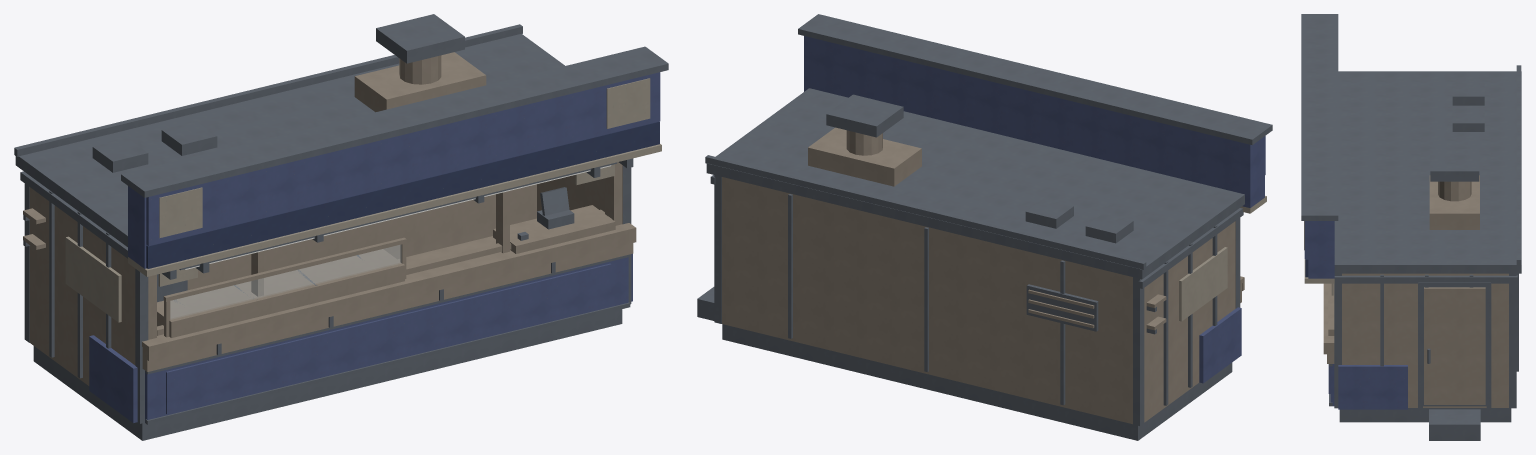
File: greek_gyros.glb
The picture shows the model from 3 angles, left to right: view 1: azimuth 30°, elevation 25°; view 2: azimuth 150°, elevation 25°; view 3: azimuth 270°, elevation 25°; orthographic projection. The views are drawn at different scales.
Parts seen in each view (by area): view 1: GG_MainSignSurface, GG_LowerFrontSignSurface, GG_RoofSlab, GG_CanopyTopCap, GG_MenuStripSurface, GG_SideWall_Left, GG_BaseSkirt, GG_HotWell_Body, GG_ServiceCounter_Top, GG_MetalCladding_Apron, GG_ServiceCounter_FrontLip, GG_RoofEdgeTrim_Rear (+33 smaller); view 2: GG_RearWall, GG_RoofSlab, GG_SignBoxBody, GG_CanopyTopCap, GG_BaseSkirt, GG_SideWall_Left, GG_RoofEdgeTrim_Rear, GG_ExtractionPlenum, GG_ExtractionCowl, GG_LowerSidePanel_Left, GG_SideSignSurface, GG_CornerPost_RearLeft (+10 smaller); view 3: GG_RoofSlab, GG_SideWall_Right, GG_CanopyTopCap, GG_SideDoor_Panel, GG_LowerSidePanel_Right, GG_ExtractionPlenum, GG_BaseSkirt, GG_SideStep, GG_ExtractionCowl, GG_SignBoxBody, GG_SideTrim_Right, GG_RoofEdgeTrim_Rear (+15 smaller).
Part boxes in pixels (x1,y1,x2,y2): GG_MainSignSurface: (146, 72, 660, 245); GG_LowerFrontSignSurface: (166, 263, 611, 414); GG_RoofSlab: (15, 33, 564, 246); GG_CanopyTopCap: (121, 46, 668, 197); GG_MenuStripSurface: (146, 121, 659, 268); GG_SideWall_Left: (29, 187, 135, 385); GG_BaseSkirt: (33, 309, 622, 440); GG_HotWell_Body: (157, 249, 404, 337); GG_ServiceCounter_Top: (142, 209, 636, 351); GG_MetalCladding_Apron: (142, 243, 633, 371); GG_ServiceCounter_FrontLip: (146, 232, 636, 360); GG_RoofEdgeTrim_Rear: (14, 24, 522, 156); GG_RearWall: (722, 177, 1144, 424); GG_RoofSlab: (706, 88, 1244, 279); GG_SignBoxBody: (804, 36, 1264, 207); GG_CanopyTopCap: (798, 14, 1272, 145); GG_BaseSkirt: (722, 324, 1232, 440); GG_SideWall_Left: (1132, 221, 1235, 422); GG_RoofEdgeTrim_Rear: (705, 155, 1146, 269); GG_ExtractionPlenum: (808, 127, 921, 186); GG_ExtractionCowl: (826, 94, 903, 137); GG_LowerSidePanel_Left: (1199, 307, 1241, 383); GG_SideSignSurface: (1179, 247, 1227, 321); GG_CornerPost_RearLeft: (1133, 277, 1144, 425); GG_RoofSlab: (1334, 71, 1521, 273); GG_SideWall_Right: (1342, 273, 1508, 407); GG_CanopyTopCap: (1301, 14, 1338, 220); GG_SideDoor_Panel: (1424, 287, 1485, 404); GG_LowerSidePanel_Right: (1338, 365, 1407, 409); GG_ExtractionPlenum: (1429, 175, 1479, 229); GG_BaseSkirt: (1339, 408, 1511, 422); GG_SideStep: (1429, 409, 1480, 440); GG_ExtractionCowl: (1430, 149, 1479, 181); GG_SignBoxBody: (1308, 221, 1334, 278); GG_SideTrim_Right: (1334, 275, 1517, 283); GG_RoofEdgeTrim_Rear: (1516, 65, 1521, 265).
Size of the model in its own units: 7.18 by 3.4 by 3.16.
Materials: 7 (5 with a texture image).
